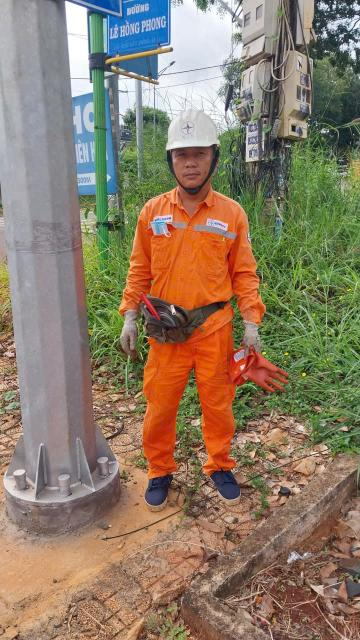gloves: (232, 349, 287, 395), (115, 295, 143, 364), (231, 322, 267, 349)
helmet: (158, 105, 227, 154)
shoes: (135, 468, 177, 519), (204, 461, 248, 504)
